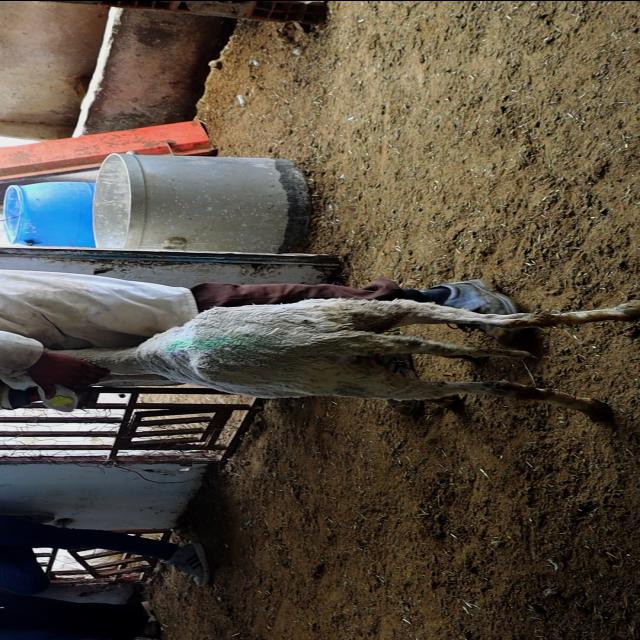Score_1: (51, 298, 639, 421)
